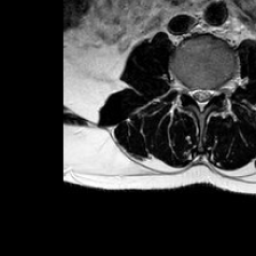CCS_normal: (196, 76, 205, 120)
LFS_normal: (213, 75, 223, 105)
LLS_normal: (205, 76, 213, 108)
RFS_normal: (180, 75, 189, 102)
RLS_normal: (187, 77, 196, 106)
